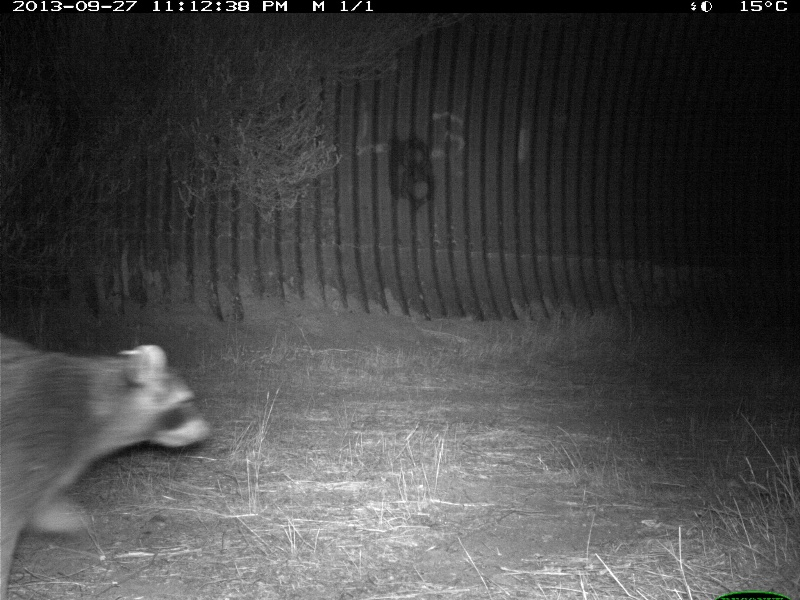raccoon: (1, 335, 214, 591)
